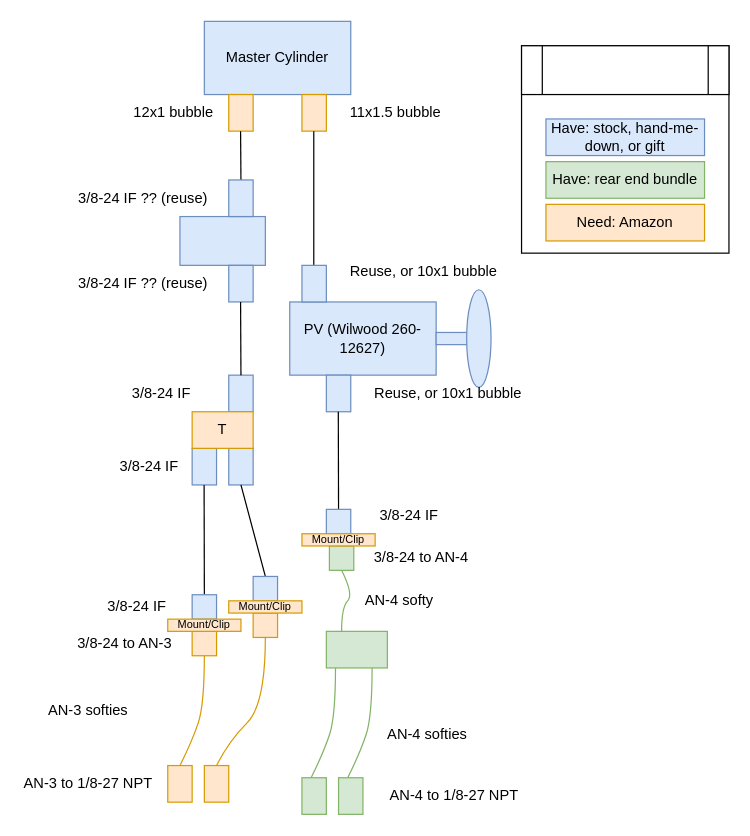
Some shapes in this 750 by 836 pixel diagram are drawn without their labels. The box of each missing label's shape, as (x1, y1, x2, y2) in pixels:
LEGEND: (520, 45, 729, 95)
LL: (179, 215, 265, 265)
T (AN-4): (325, 630, 387, 668)
